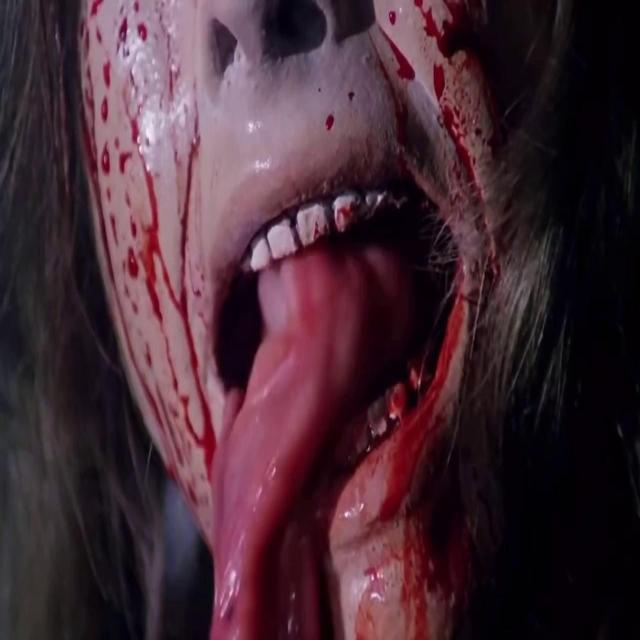flood: (55, 4, 283, 491), (377, 0, 518, 640)
